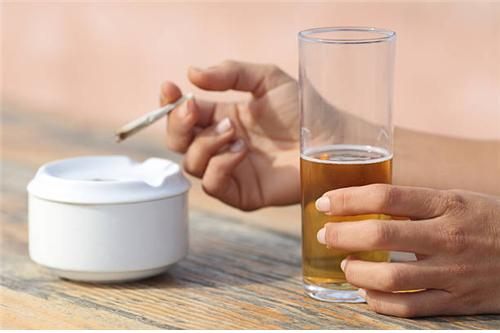alcohol: (300, 25, 394, 302)
cigarette: (112, 92, 197, 141)
